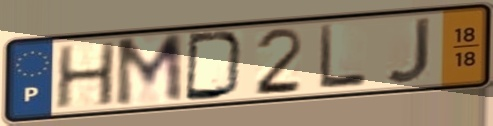2: (253, 25, 305, 97)
D: (182, 30, 248, 103)
H: (52, 39, 119, 111)
J: (382, 14, 434, 86)
L: (316, 22, 369, 92)
M: (112, 31, 186, 111)
